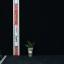leaf: (31, 39, 36, 46), (31, 42, 35, 48), (27, 40, 30, 47), (25, 45, 30, 48), (30, 41, 31, 47)
